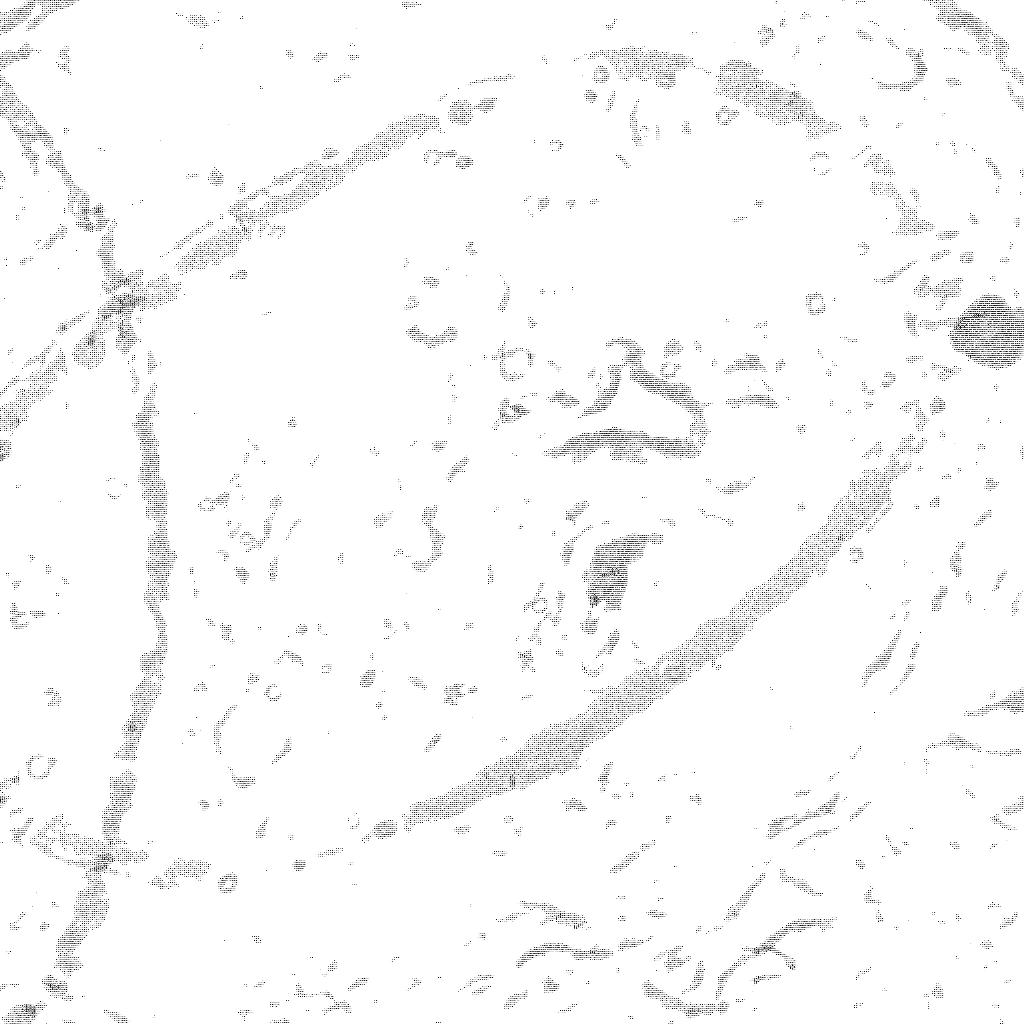axone: (945, 292, 1024, 375)
